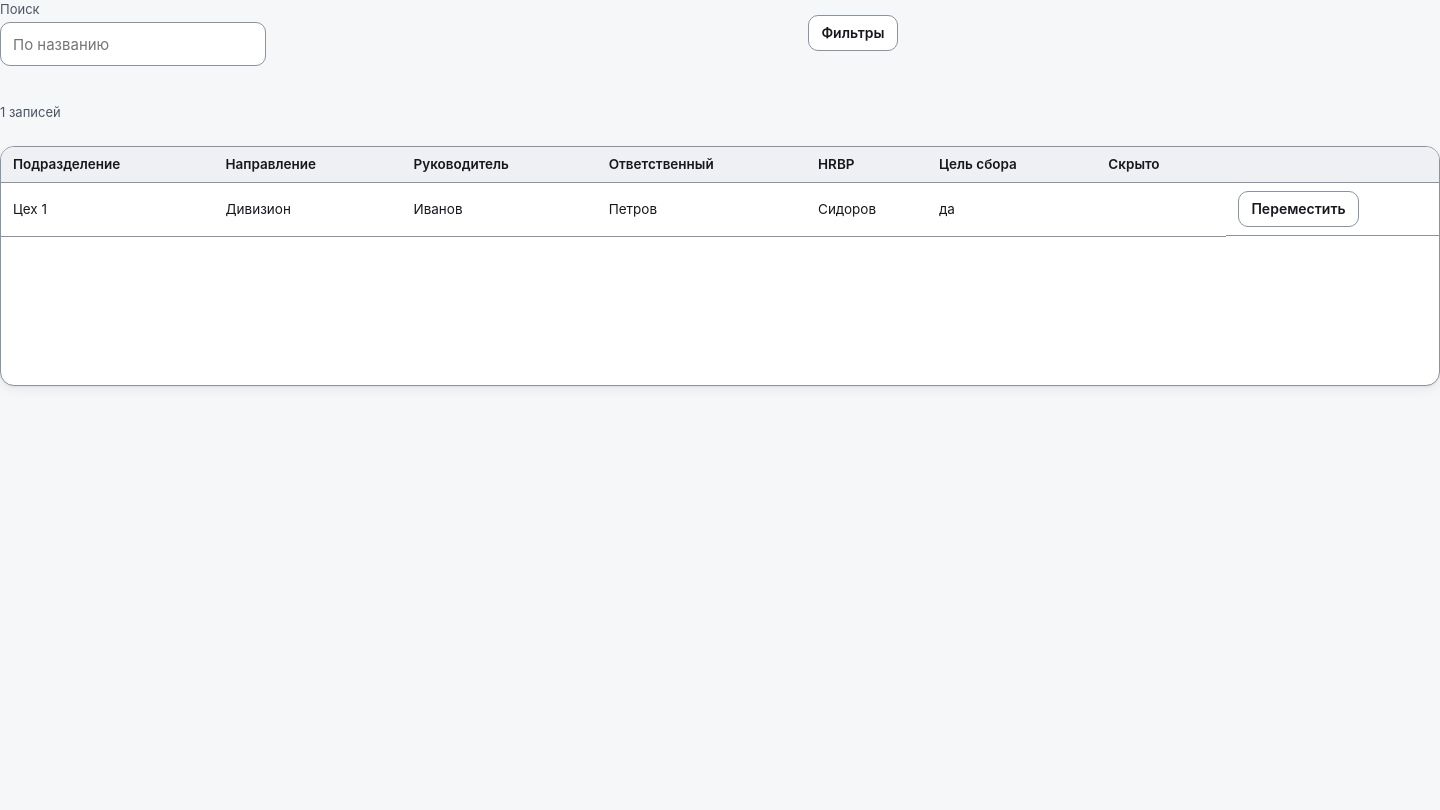
Test: dir_head в карточке подразделения видит поле «Направление» отключённым
What coordinates should you click on to do the following:
click the text "Цех 1"
I would click on:
 (107, 210)
Its box is [1,183,214,236].
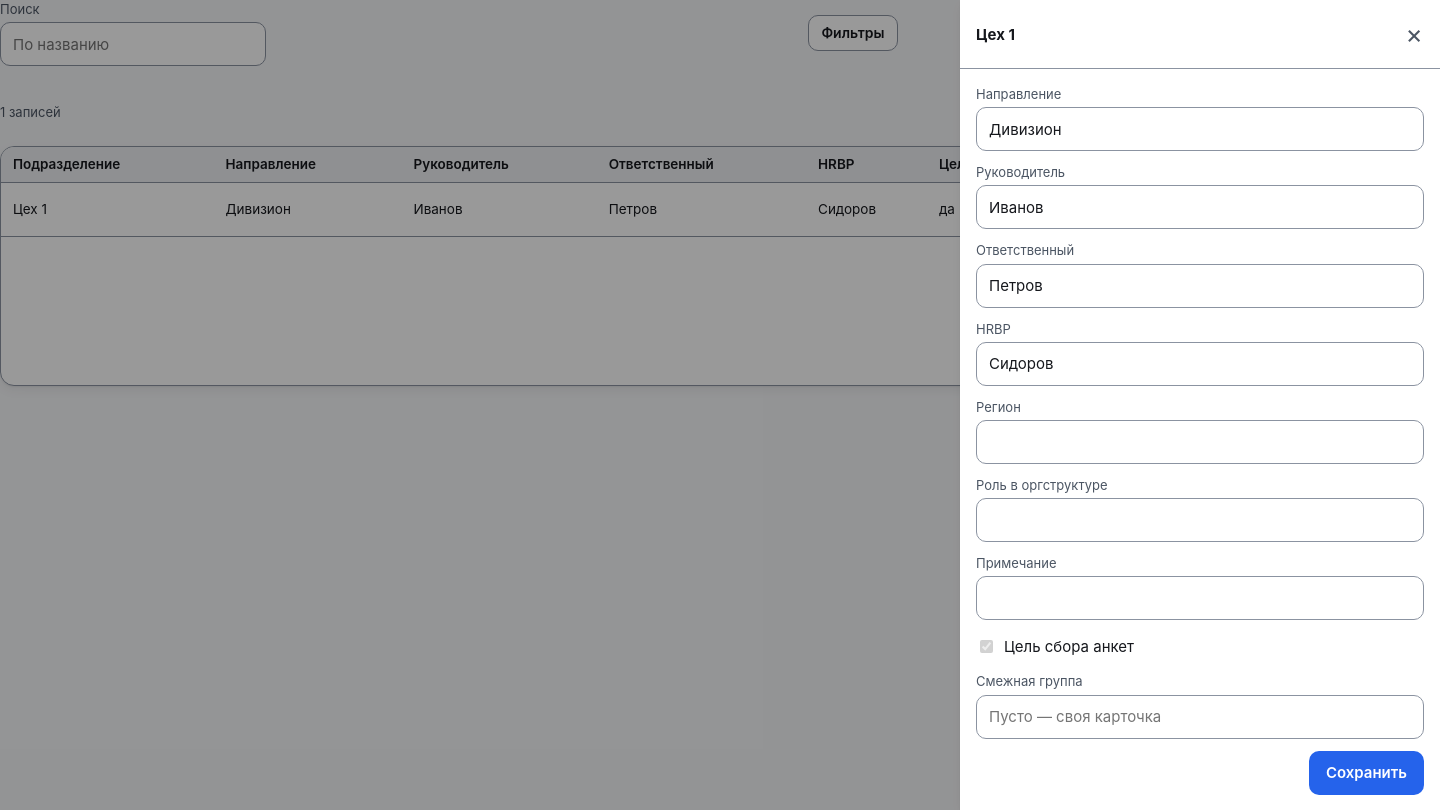
Expected: the field labelled "Направление" is disabled, [976,107,1424,151]
Expected: the field labelled "Руководитель" is enabled, [976,185,1424,229]
